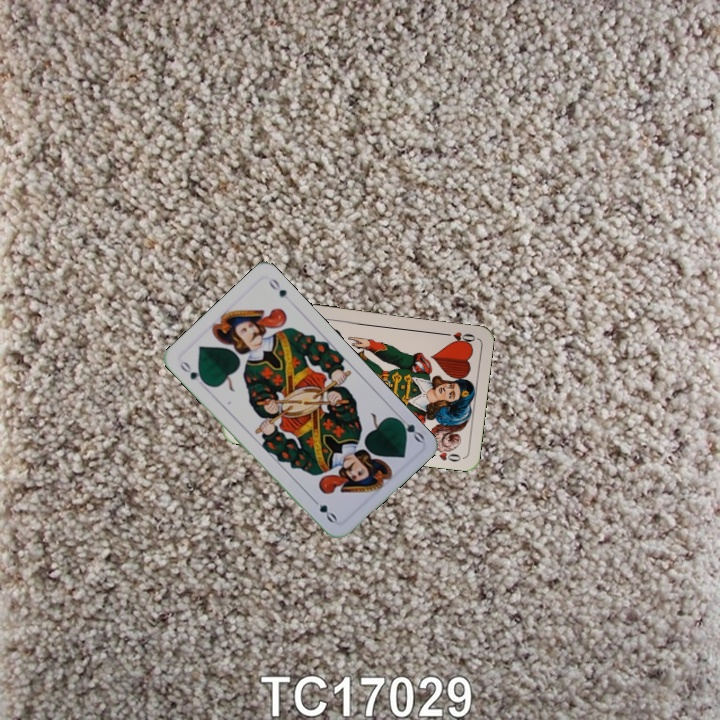GO: (392, 411, 427, 445), (175, 357, 209, 387)
HO: (437, 327, 478, 345)
